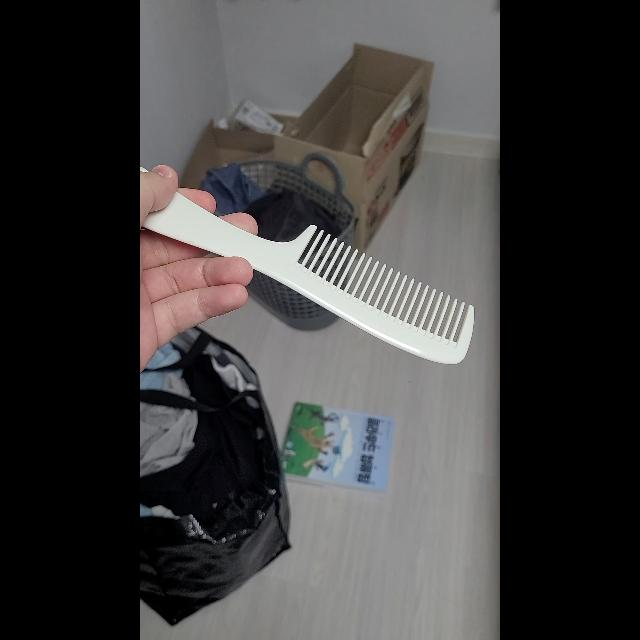COMB: (140, 167, 474, 365)
